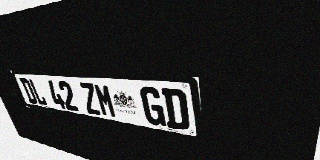2: (57, 81, 79, 112)
4: (46, 80, 67, 109)
D: (161, 88, 190, 131), (19, 78, 38, 104)
G: (139, 86, 166, 127)
L: (28, 79, 48, 106)
M: (93, 83, 118, 118)
Z: (78, 82, 102, 116)
